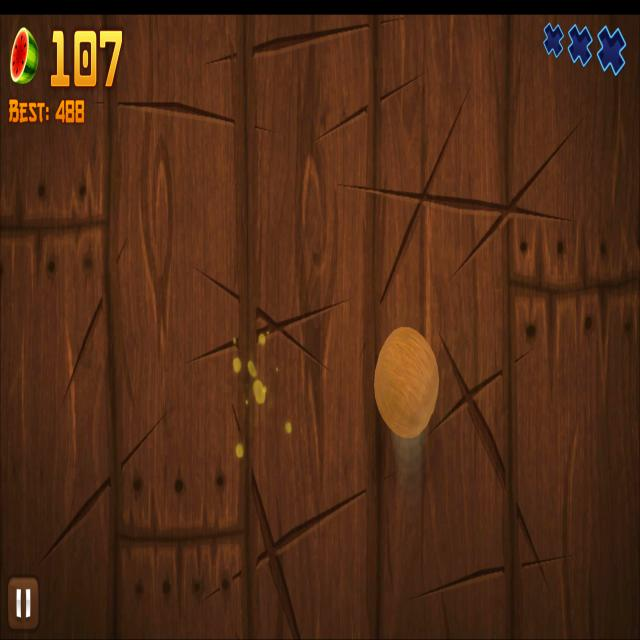fruit: (374, 326, 439, 440)
